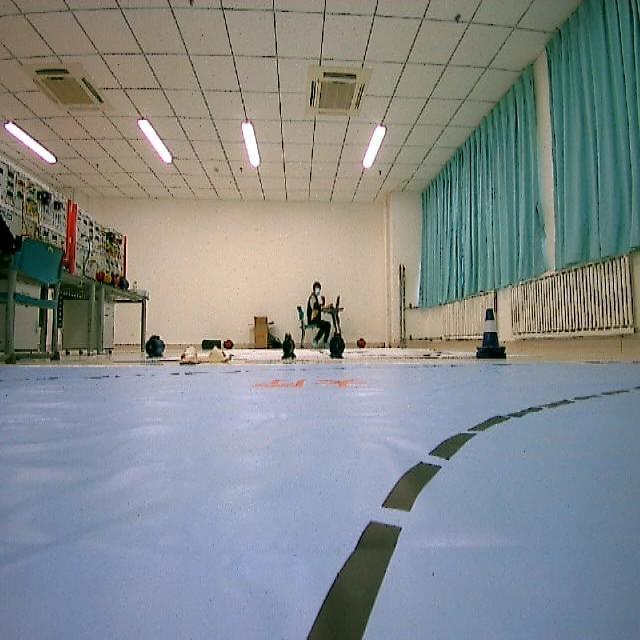obstacle: (463, 300, 508, 364)
